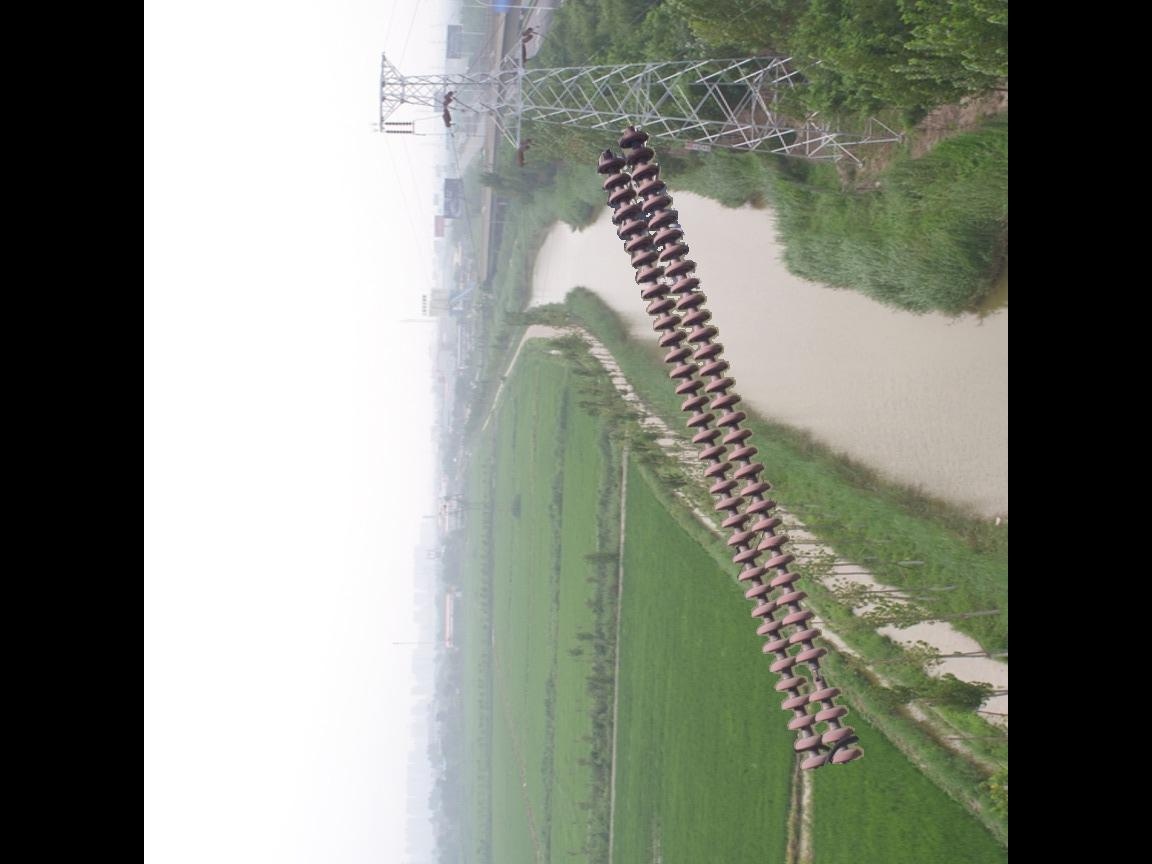insulator: (593, 125, 868, 778)
insulator_stringdrop: (793, 644, 842, 706)
